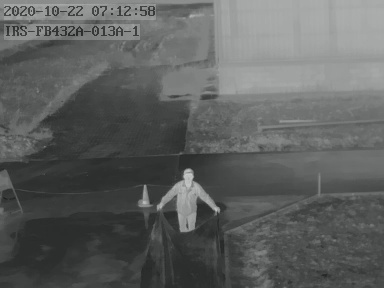person: (154, 166, 220, 228)
